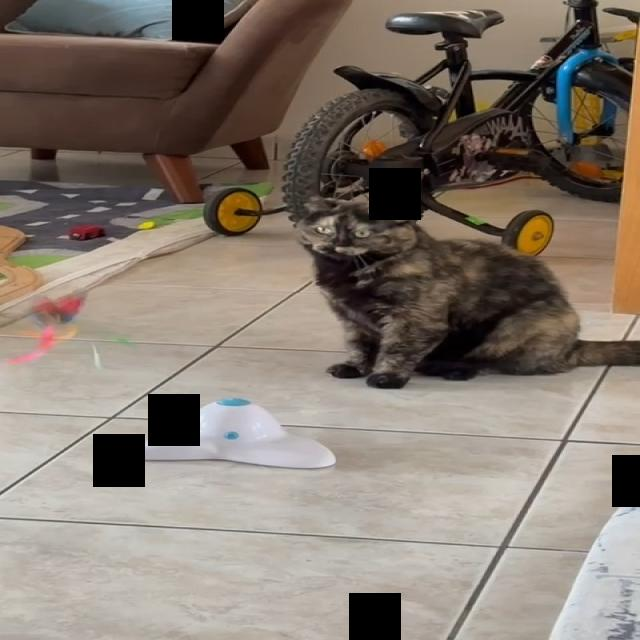authorized: (288, 194, 639, 388)
